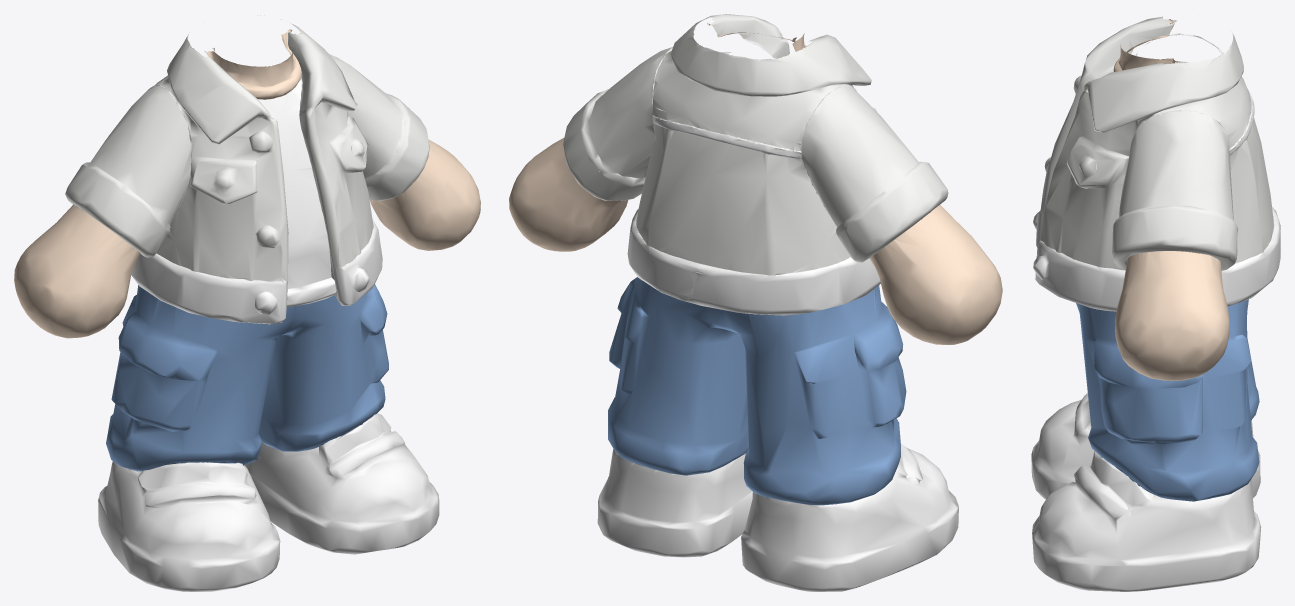
The model's file is outfit_denimcargo.glb.
3 renders of one model, left to right at view 1: azimuth 30°, elevation 25°; view 2: azimuth 150°, elevation 25°; view 3: azimuth 270°, elevation 25°, orthographic. The views are drawn at different scales.
Parts seen in each view (by area): view 1: bottom, top, shoe_r, shoe_l, sleeve_r, hand_r, trim_3, hand_l, sleeve_l, trim, neck, trim_2; view 2: bottom, top, shoe_r, sleeve_r, hand_r, shoe_l, sleeve_l, hand_l, trim, trim_2, trim_4; view 3: top, bottom, shoe_l, sleeve_l, hand_l, trim_2, shoe_r, neck, trim.
Boxes of the visible parts, x1,y1,x2,y2 form: bottom: (106, 284, 388, 471); top: (155, 15, 373, 281); shoe_r: (98, 461, 280, 591); shoe_l: (245, 413, 439, 554); sleeve_r: (65, 84, 192, 257); hand_r: (14, 204, 140, 338); trim_3: (258, 80, 336, 307); hand_l: (370, 139, 480, 250); sleeve_l: (329, 54, 429, 200); trim: (131, 253, 287, 324); neck: (206, 29, 301, 99); trim_2: (333, 219, 382, 305); bottom: (608, 277, 906, 505); top: (636, 14, 876, 275); shoe_r: (741, 444, 958, 591); sleeve_r: (799, 85, 948, 262); hand_r: (869, 205, 1002, 344); shoe_l: (597, 449, 752, 557); sleeve_l: (563, 47, 672, 200); hand_l: (509, 138, 628, 251); trim: (682, 257, 880, 315); trim_2: (627, 209, 700, 300); trim_4: (652, 115, 800, 158); top: (1040, 16, 1275, 270); bottom: (1076, 299, 1259, 501); shoe_l: (1032, 451, 1261, 591); sleeve_l: (1111, 110, 1238, 270); hand_l: (1115, 251, 1229, 380); trim_2: (1033, 225, 1280, 311); shoe_r: (1031, 393, 1260, 499); neck: (1113, 19, 1177, 71); trim: (1033, 207, 1280, 259).
Size of the model in its own units: 0.5644 by 0.5868 by 0.2727.
